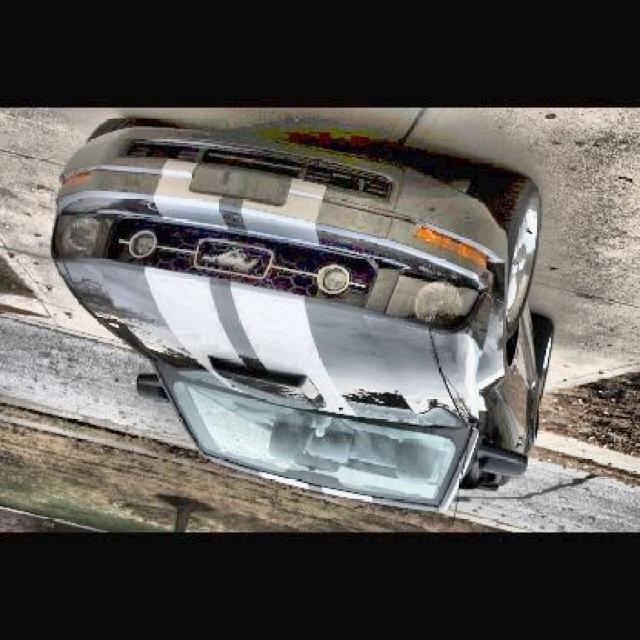black: (10, 141, 556, 524)
